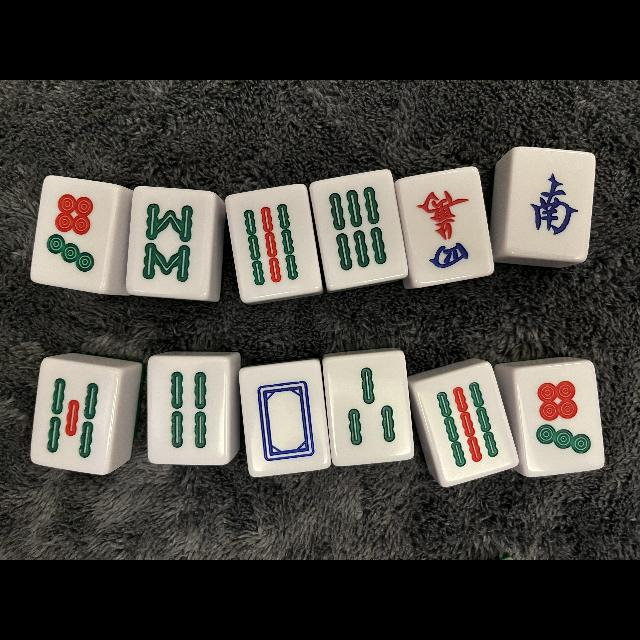b3: (329, 354, 405, 462)
b4: (148, 357, 228, 463)
b5: (37, 365, 113, 467)
b6: (320, 176, 400, 282)
b8: (132, 188, 208, 294)
b9: (428, 374, 510, 476), (234, 190, 312, 296)
c4: (404, 172, 486, 280)
d7: (520, 366, 600, 474), (36, 182, 112, 284)
dw: (246, 365, 324, 473)
ws: (512, 150, 590, 252)
